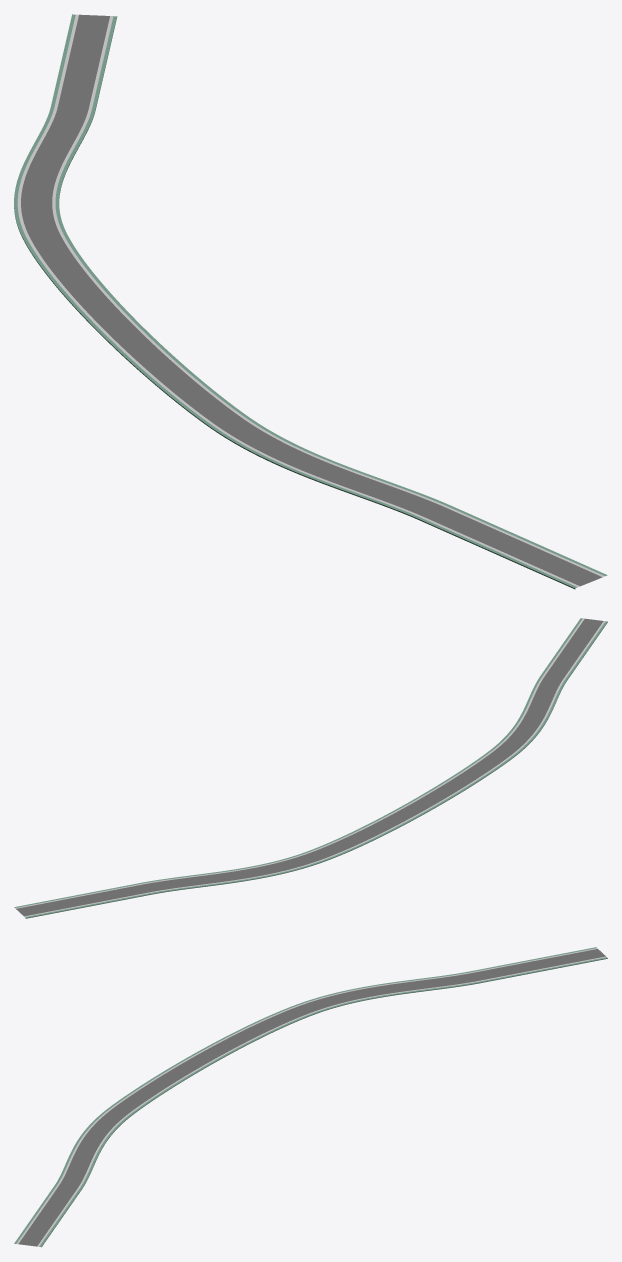
The model's file is road_roam_from_stage_harbour_lights.glb.
3 renders of one model, top to bottom at view 1: azimuth 30°, elevation 25°; view 2: azimuth 150°, elevation 25°; view 3: azimuth 330°, elevation 25°, orthographic. The views are drawn at different scales.
Parts seen in each view (by area): view 1: road; view 2: road; view 3: road.
Part boxes in pixels (<box>): road: <box>14,14,607,589</box>; road: <box>14,618,607,918</box>; road: <box>14,947,607,1247</box>.
Bounding box in the file's own units: 108 × 0.32 × 379.
